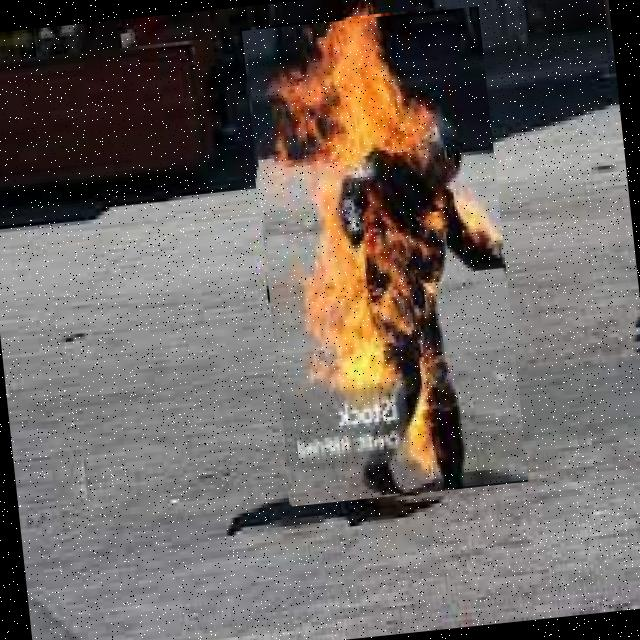fire: (242, 6, 528, 507)
